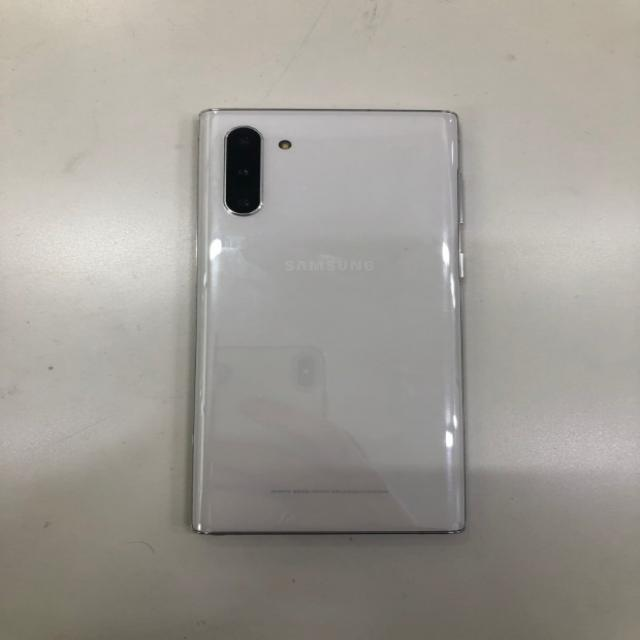phone: (192, 108, 469, 534)
